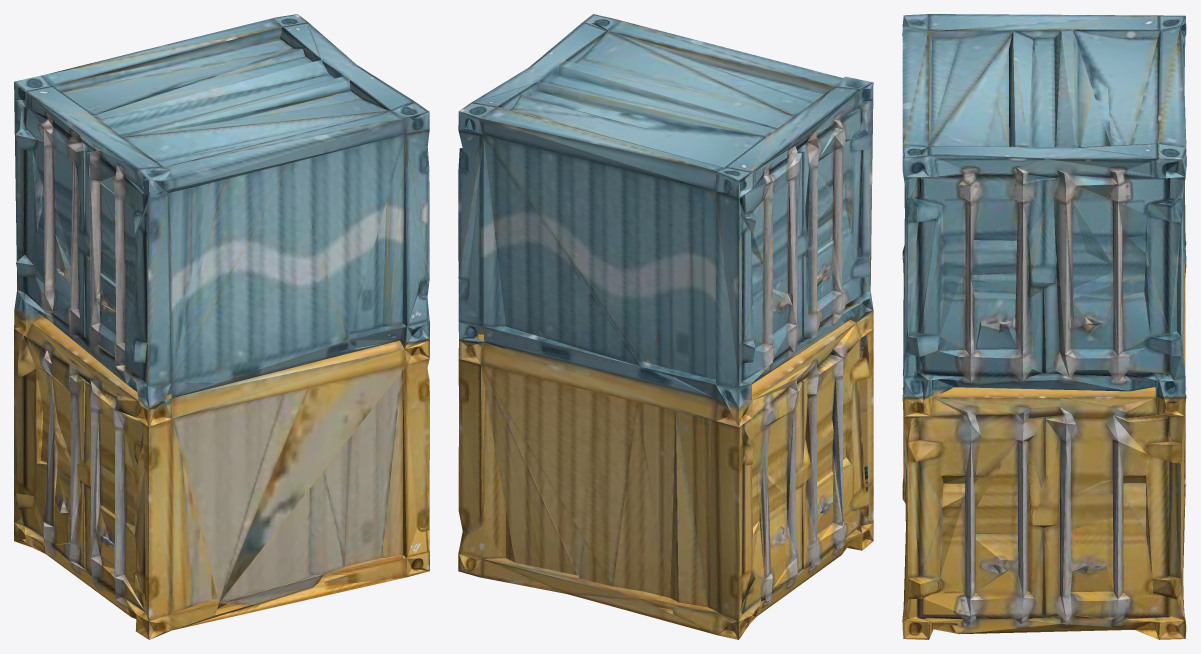
Rendered from containers.glb.
3 views of the same model, side by side, from view 1: azimuth 30°, elevation 25°; view 2: azimuth 150°, elevation 25°; view 3: azimuth 270°, elevation 25° (orthographic). The views are drawn at different scales.
Bounding box in the file's own units: 1.28 × 1.9 × 1.01.
Materials: 1 (1 with a texture image).
